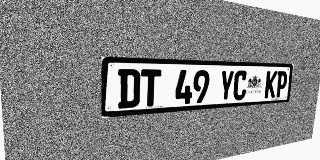4: (175, 70, 194, 105)
9: (192, 70, 210, 103)
C: (232, 70, 248, 101)
D: (118, 69, 140, 109)
K: (264, 71, 278, 98)
P: (275, 71, 288, 98)
T: (140, 69, 161, 107)
Y: (218, 70, 235, 102)
